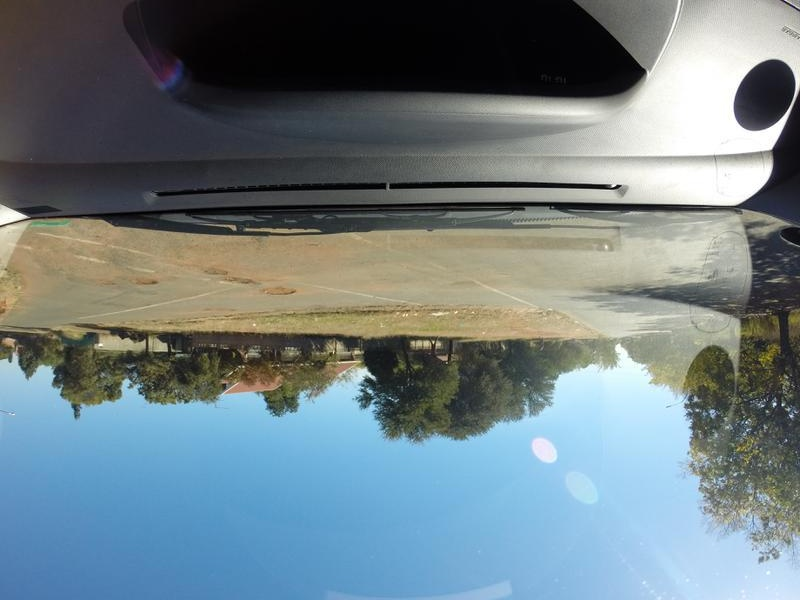pothole: (124, 274, 160, 288), (262, 285, 298, 298), (224, 271, 251, 288), (89, 271, 114, 288), (202, 263, 225, 279)
